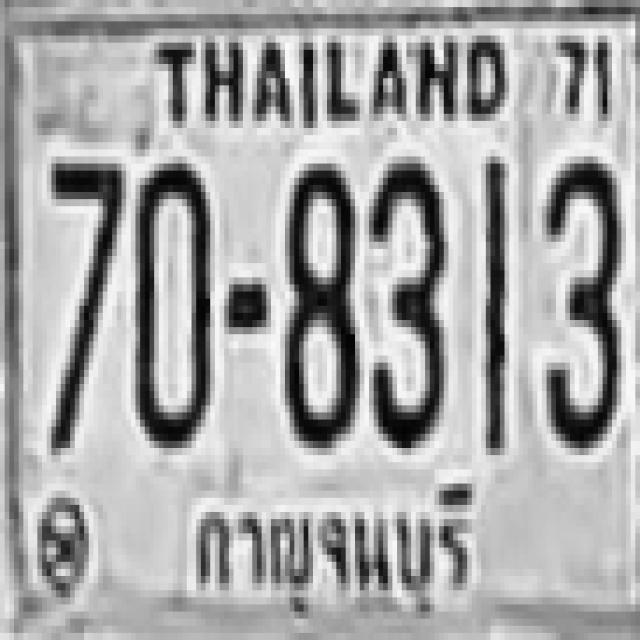0: (133, 156, 208, 441)
1: (481, 153, 505, 451)
3: (364, 156, 444, 441), (542, 149, 617, 441)
7: (47, 156, 121, 448), (47, 157, 121, 356)
8: (280, 156, 355, 441)
Kanchanaburi: (174, 463, 490, 625)
